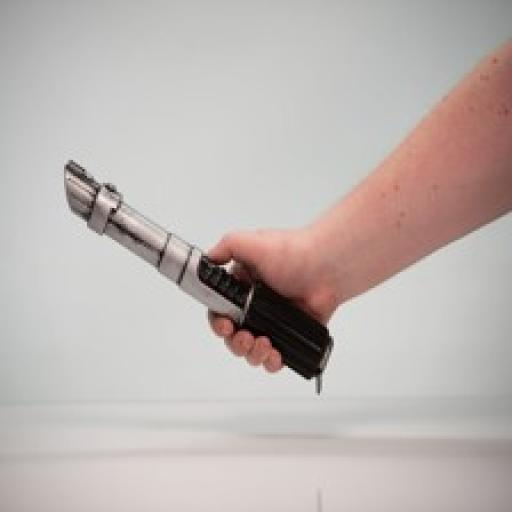lightsaber: (57, 154, 341, 388)
